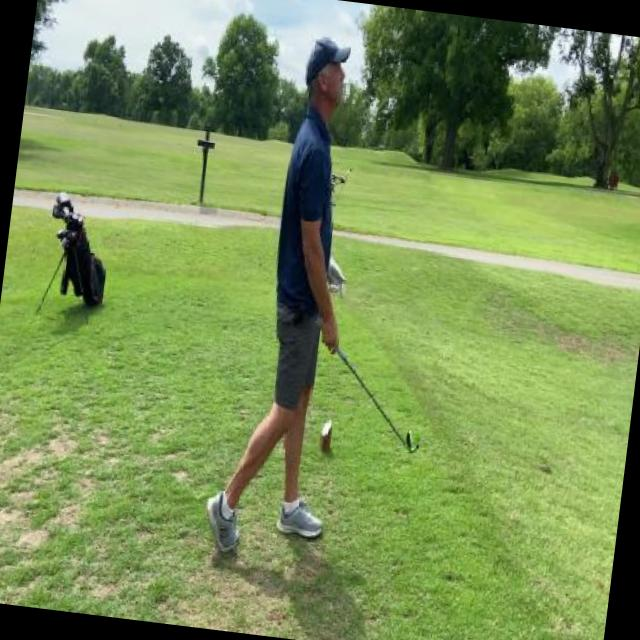club head: (404, 429, 421, 453)
